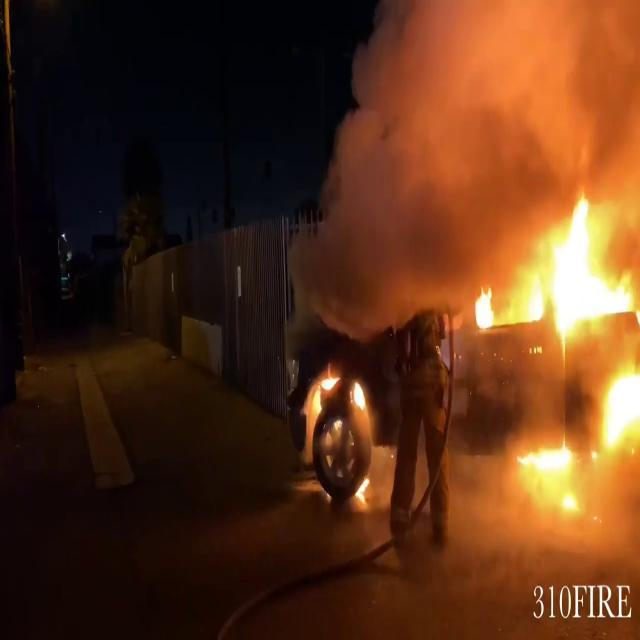Fire: (494, 190, 640, 348), (514, 436, 584, 516), (594, 354, 640, 466), (308, 364, 368, 424), (469, 281, 498, 337)
Smoke: (314, 0, 640, 332)
